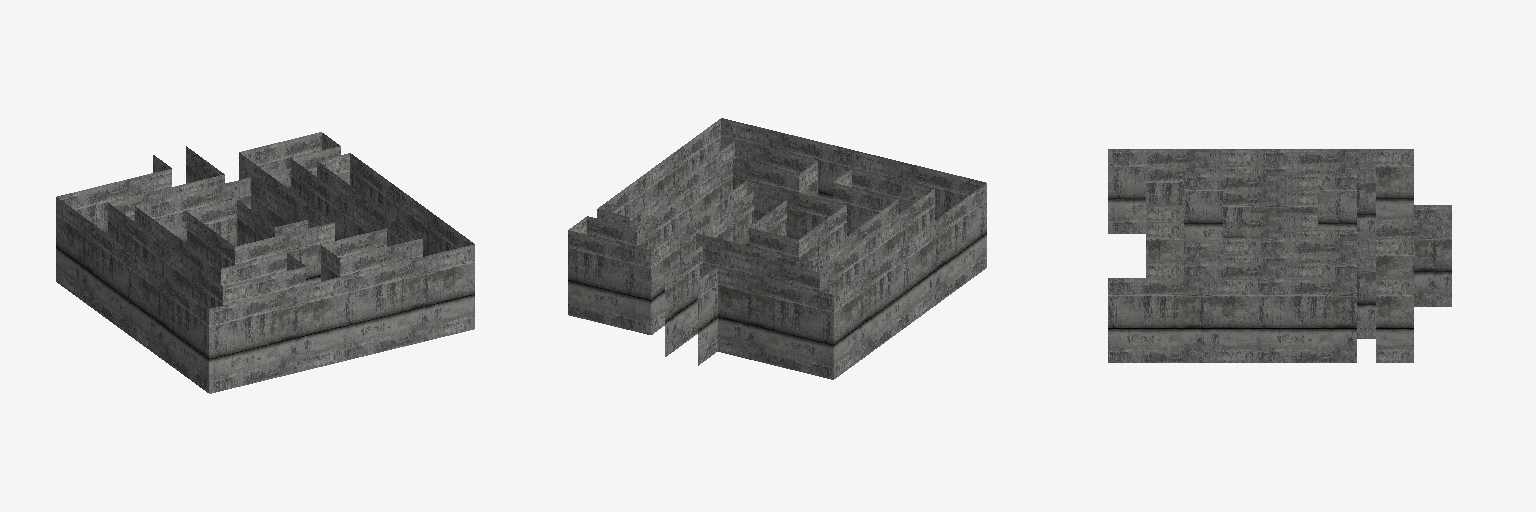
3 renders of one model, left to right at view 1: azimuth 30°, elevation 25°; view 2: azimuth 150°, elevation 25°; view 3: azimuth 270°, elevation 25°, orthographic.
Visible parts, largest first — view 1: Room; view 2: Room; view 3: Room.
Boxes of the visible parts, box(x1,y1,x2,y2) form: Room: box(56, 132, 474, 393); Room: box(568, 118, 986, 379); Room: box(1108, 149, 1451, 362).
Bounding box in the file's own units: 8 × 2.45 × 9.
Materials: 1 (1 with a texture image).